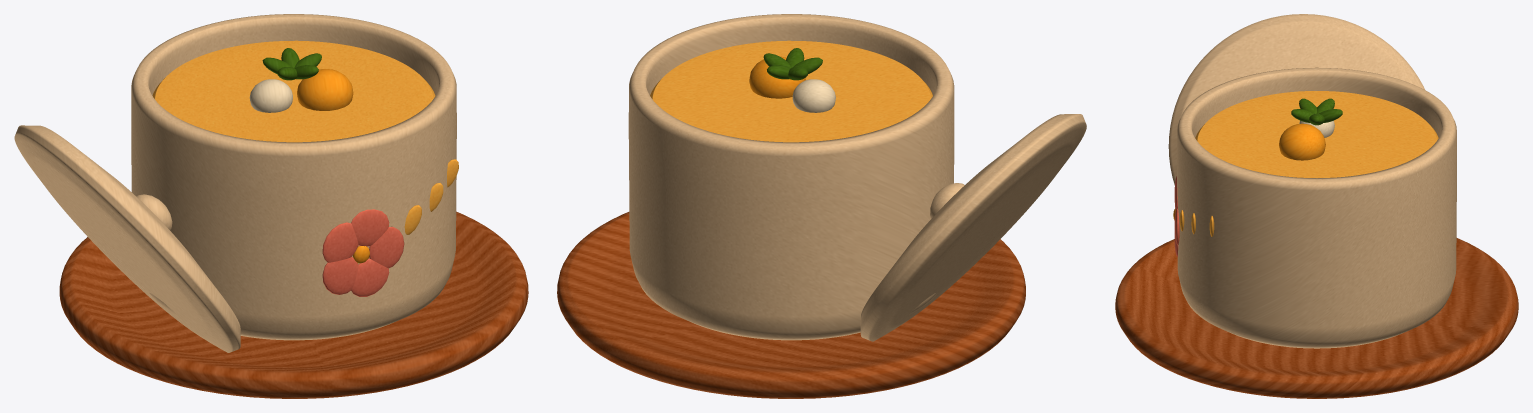
Rendered from 01-chawanmushi.glb.
The picture shows the model from 3 angles, left to right: view 1: azimuth 30°, elevation 25°; view 2: azimuth 150°, elevation 25°; view 3: azimuth 270°, elevation 25°; orthographic projection. The views are drawn at different scales.
Visible parts, largest first — view 1: Ivory glazed ceramic, Honey wood grain, Silky golden custard, Peach blossom glaze, Crispy tempura, Fresh leaf, Warm ivory rice; view 2: Ivory glazed ceramic, Honey wood grain, Silky golden custard, Fresh leaf, Warm ivory rice, Crispy tempura; view 3: Ivory glazed ceramic, Honey wood grain, Silky golden custard, Crispy tempura, Fresh leaf.
Boxes of the visible parts, x1,y1,x2,y2 form: Ivory glazed ceramic: (14, 14, 456, 352); Honey wood grain: (59, 211, 528, 398); Silky golden custard: (152, 40, 458, 234); Peach blossom glaze: (322, 209, 404, 296); Crispy tempura: (297, 69, 369, 263); Fresh leaf: (262, 48, 321, 80); Warm ivory rice: (249, 79, 292, 112); Ivory glazed ceramic: (628, 14, 1086, 341); Honey wood grain: (557, 212, 1025, 398); Silky golden custard: (650, 40, 932, 142); Fresh leaf: (763, 48, 822, 80); Warm ivory rice: (792, 79, 835, 112); Crispy tempura: (749, 56, 805, 98); Ivory glazed ceramic: (1168, 14, 1456, 348); Honey wood grain: (1115, 238, 1518, 398); Silky golden custard: (1179, 91, 1438, 236); Crispy tempura: (1173, 123, 1325, 220); Fresh leaf: (1291, 98, 1342, 125).
Bounding box in the file's own units: 0.0406 × 0.0211 × 0.0359.
7 materials, 7 textured.
